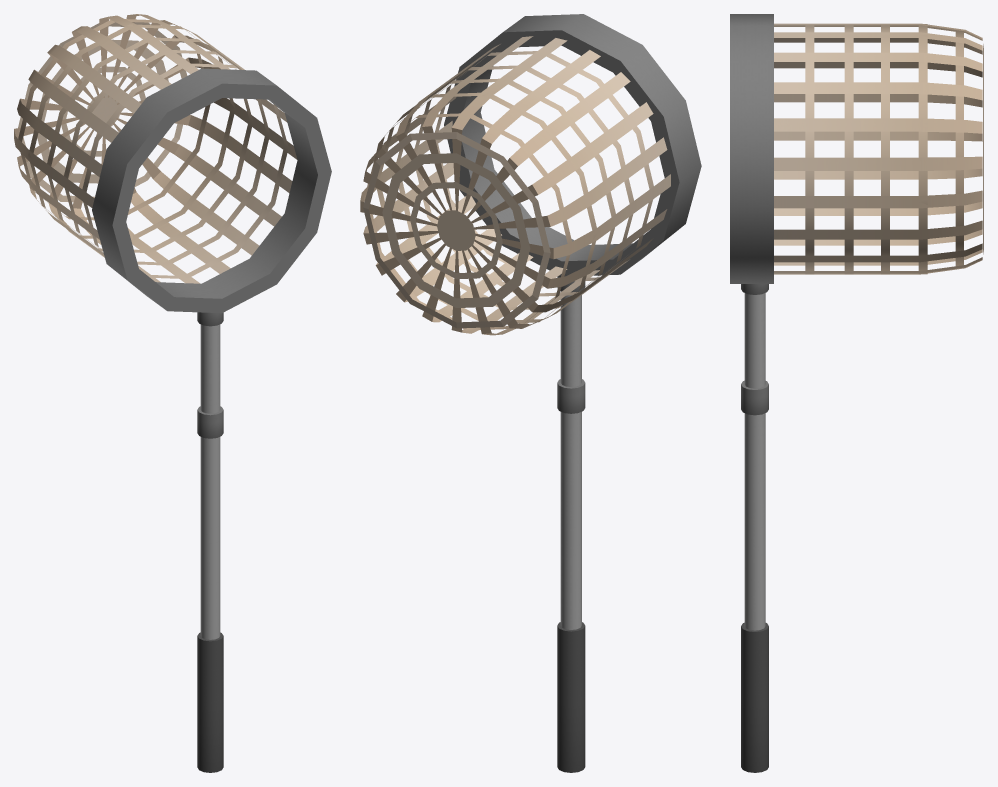
Rendered from SM_votbattom.fbx.
3 renders of one model, left to right at view 1: azimuth 30°, elevation 25°; view 2: azimuth 150°, elevation 25°; view 3: azimuth 270°, elevation 25°, orthographic. The views are drawn at different scales.
Parts seen in each view (by area): view 1: SM_Battom; view 2: SM_Battom; view 3: SM_Battom.
Part boxes in pixels (x1=…): SM_Battom: x1=14, y1=14, x2=331, y2=772; SM_Battom: x1=360, y1=14, x2=701, y2=772; SM_Battom: x1=730, y1=14, x2=983, y2=772.
Size of the model in its own units: 3.7 by 11.15 by 3.46.
